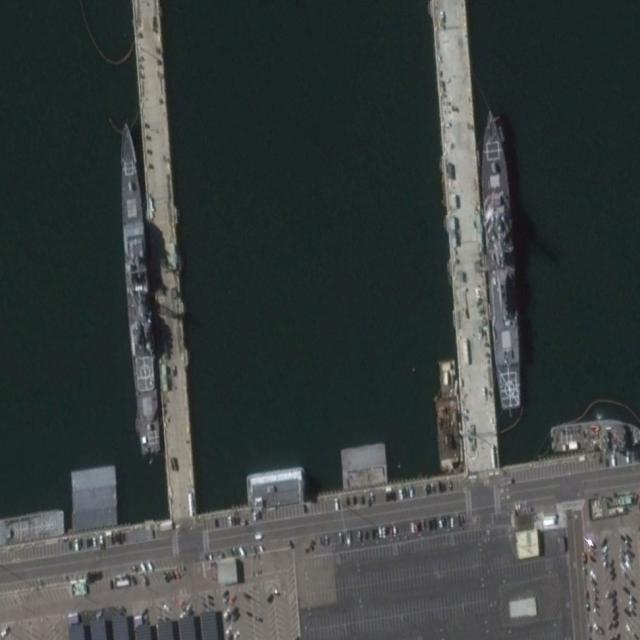Cruiser: (115, 118, 162, 455)
Destroyer: (476, 102, 523, 412)
